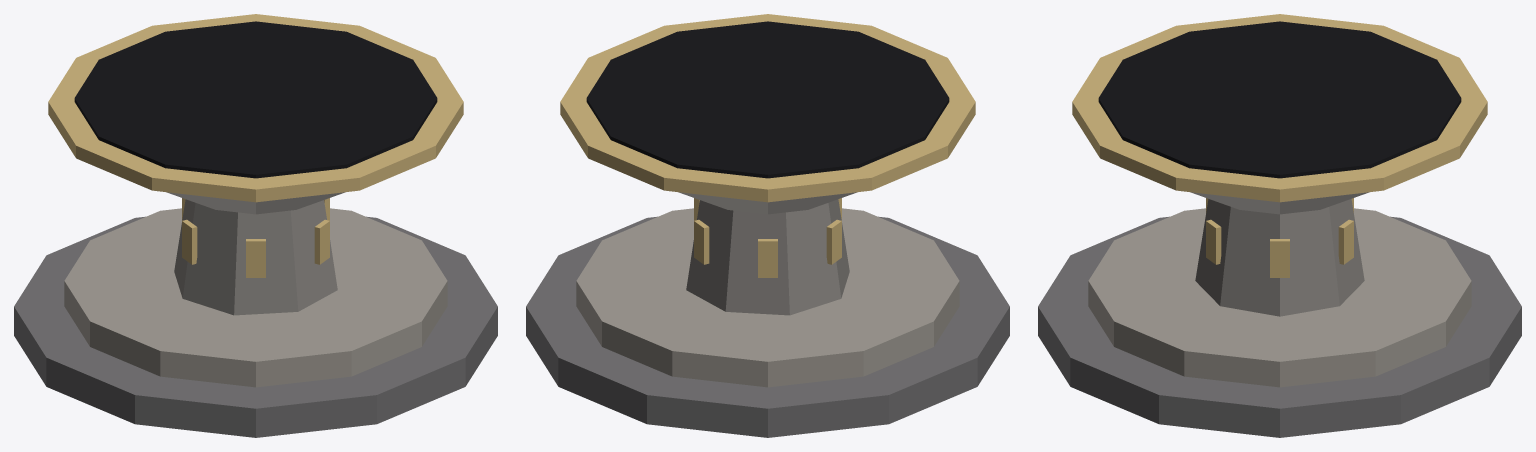
File: rite_bowl.glb
3 views of the same model, side by side, from view 1: azimuth 30°, elevation 25°; view 2: azimuth 150°, elevation 25°; view 3: azimuth 270°, elevation 25° (orthographic).
Parts seen in each view (by area): view 1: rite_bowl; view 2: rite_bowl; view 3: rite_bowl.
Part boxes in pixels (x1,y1,x2,y2): rite_bowl: (14, 14, 497, 437); rite_bowl: (526, 14, 1009, 437); rite_bowl: (1038, 14, 1521, 437).
Bounding box in the file's own units: 2.4 × 1.3 × 2.4.
